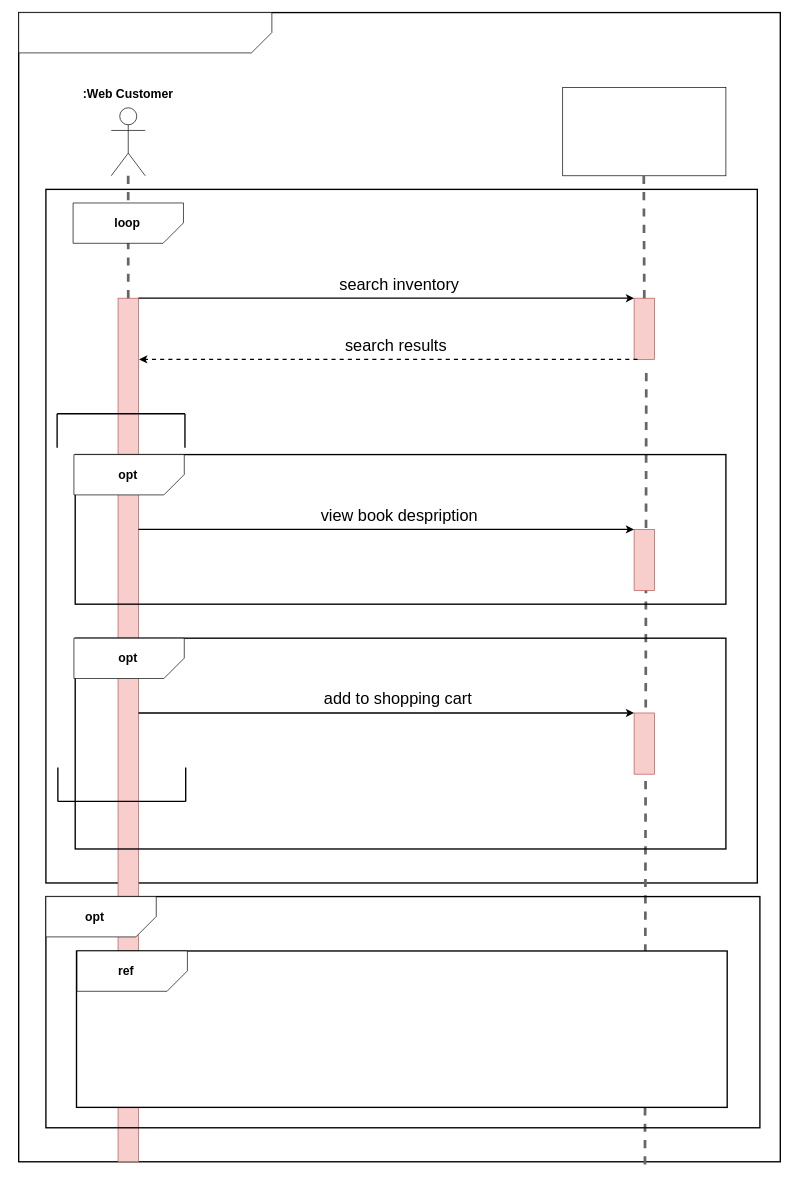
Image size: 792x1178. Some labels were removed from this diagram. Each missing label, with the centre of its shape:
":Online CosmeticsShop" goes at pixel 644 131.
"Checkout" goes at pixel 401 1029.
"sd eShop_Beauty_Beach" goes at pixel 145 32.
